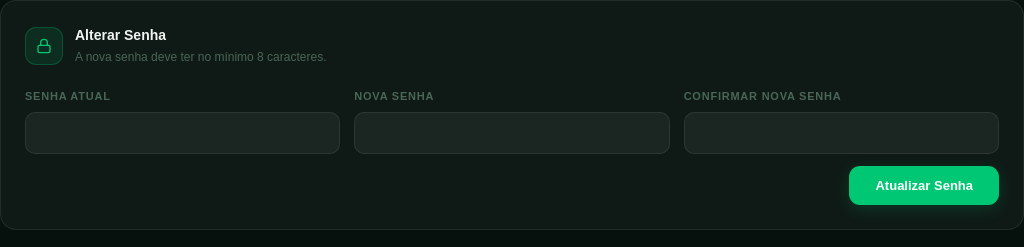
SecurityPasswordForm › bloqueia submissão duplicada enquanto a requisição está em andamento
The image size is (1024, 247).
Type "old-pass" into the password field labelled "Senha Atual" at (183, 133), box [25, 112, 340, 154]
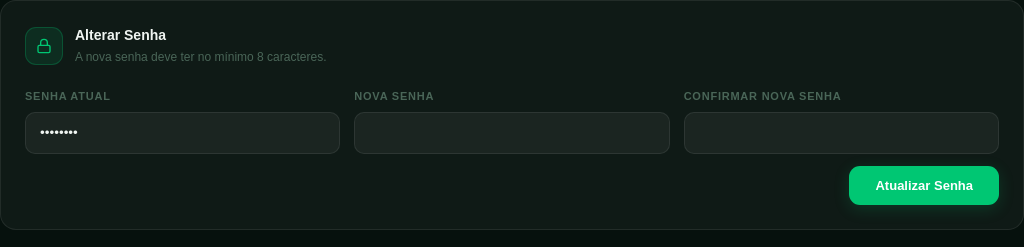
Type "NovaSenhaForte@123" into the password field labelled "Nova Senha" at (512, 133), box [354, 112, 670, 154]
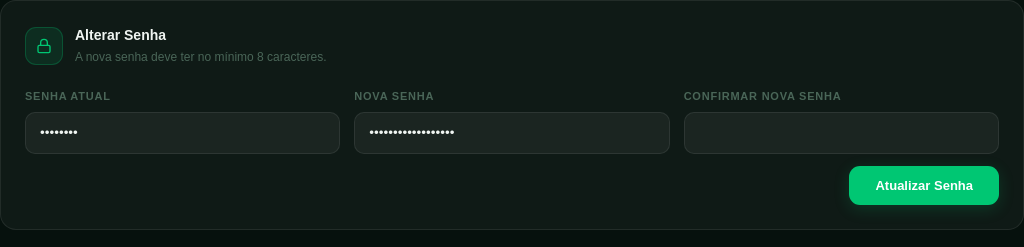
Type "NovaSenhaForte@123" into the password field labelled "Confirmar Nova Senha" at (841, 133), box [684, 112, 999, 154]
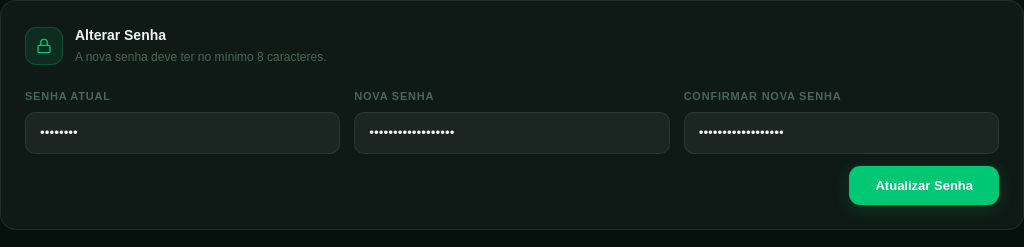
Click the button "Atualizar Senha" at (924, 186), box [850, 166, 999, 205]
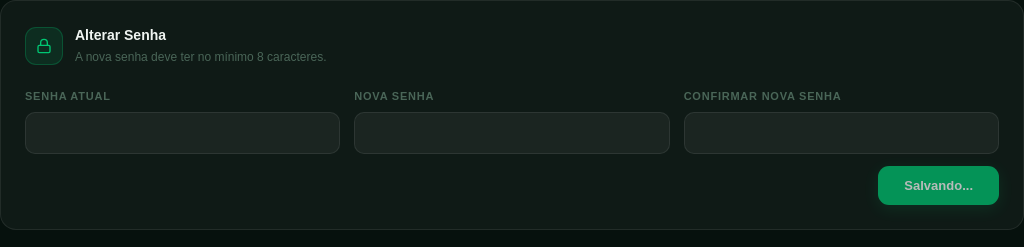
Expected: the button named "atualizar senha" is disabled, [878, 166, 999, 205]
